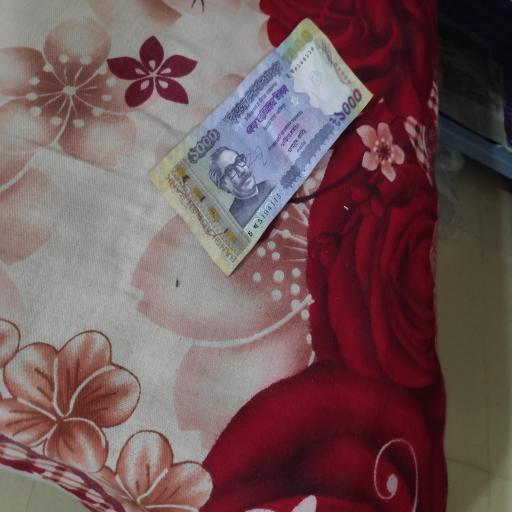1000taka: (148, 19, 373, 277)
